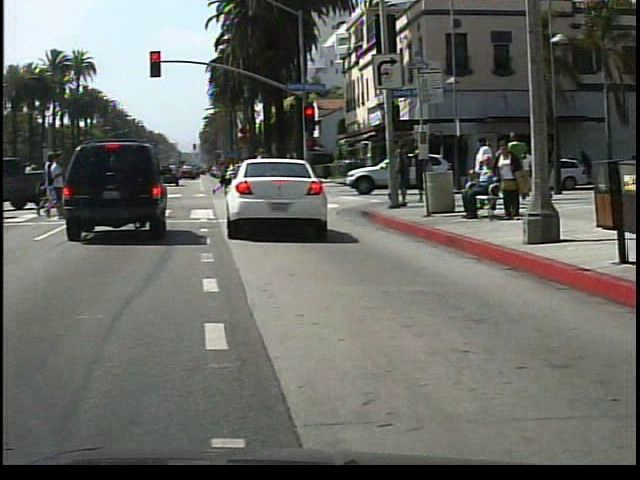person: (496, 138, 533, 226), (463, 157, 504, 218), (249, 144, 283, 217)
